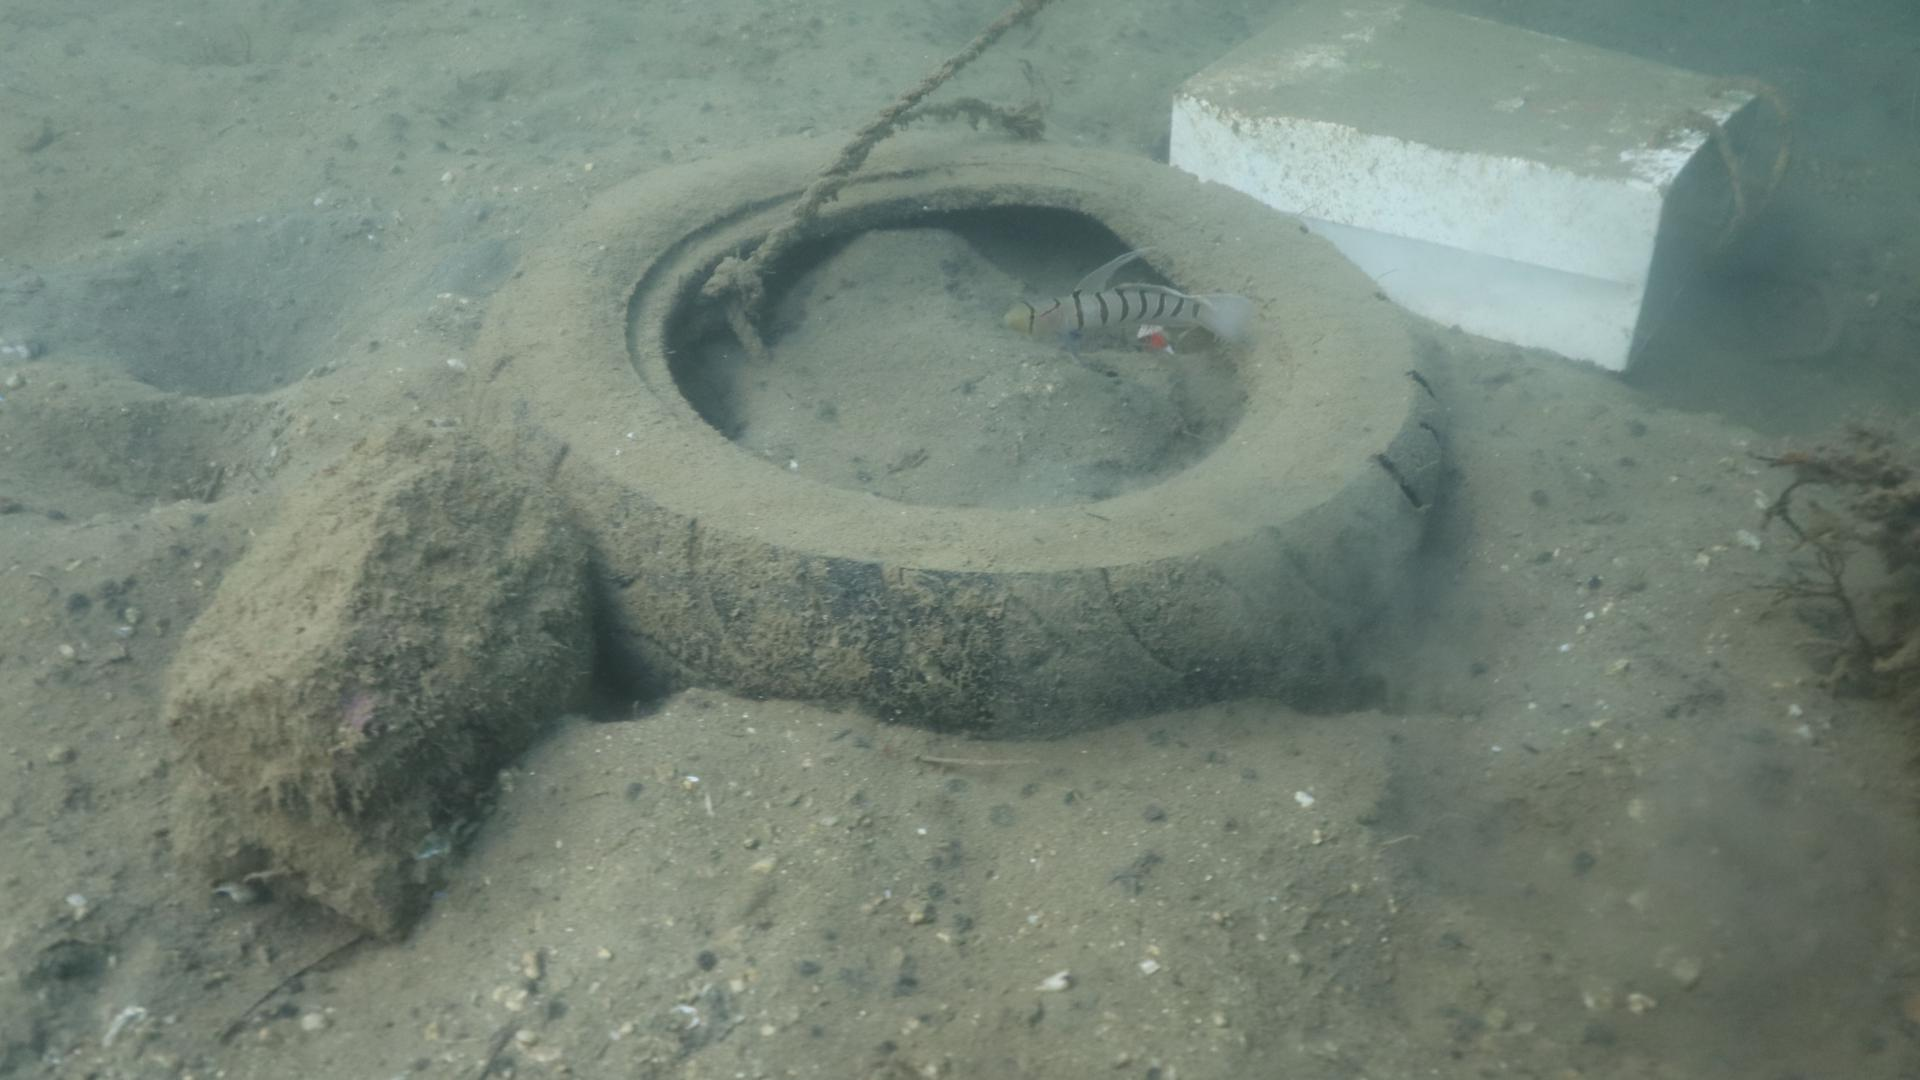bundle of ropes: (690, 0, 1047, 361)
tire: (464, 127, 1444, 741)
